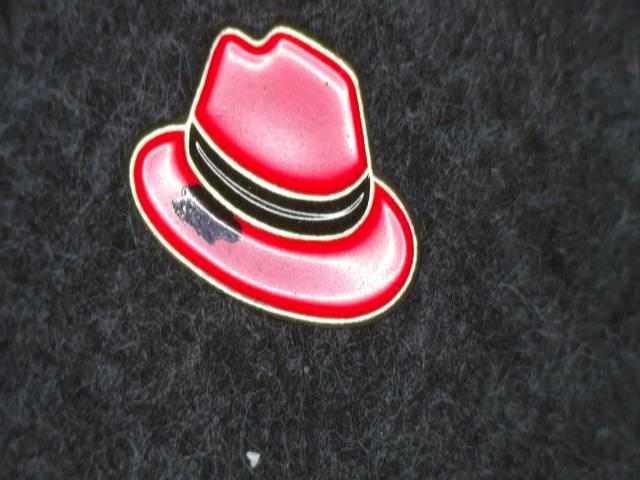Red-Hat: (107, 10, 462, 380)
Scratch: (161, 162, 271, 267)
